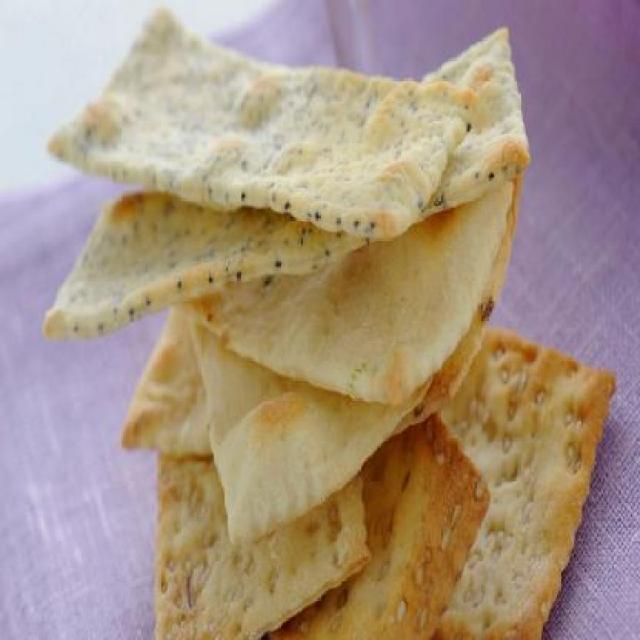Cracker packaged: (61, 6, 462, 234)
